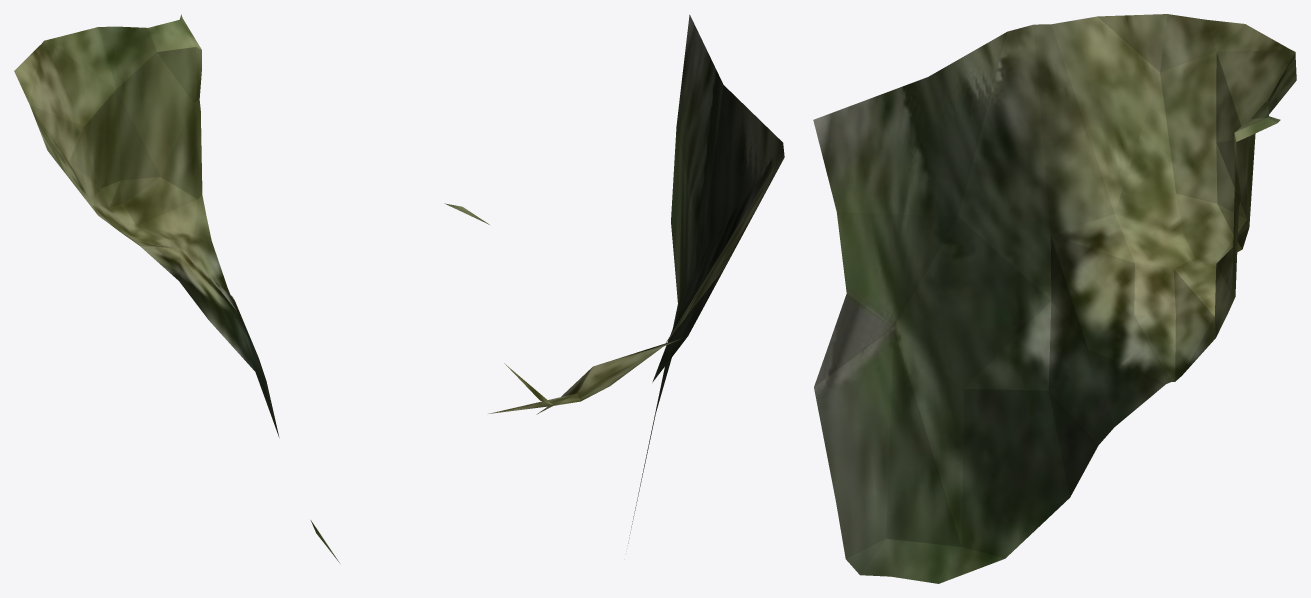
3 views of the same model, side by side, from view 1: azimuth 30°, elevation 25°; view 2: azimuth 150°, elevation 25°; view 3: azimuth 270°, elevation 25° (orthographic). The views are drawn at different scales.
Size of the model in its own units: 0.932 by 1.9 by 1.8.
1 material, 1 textured.
